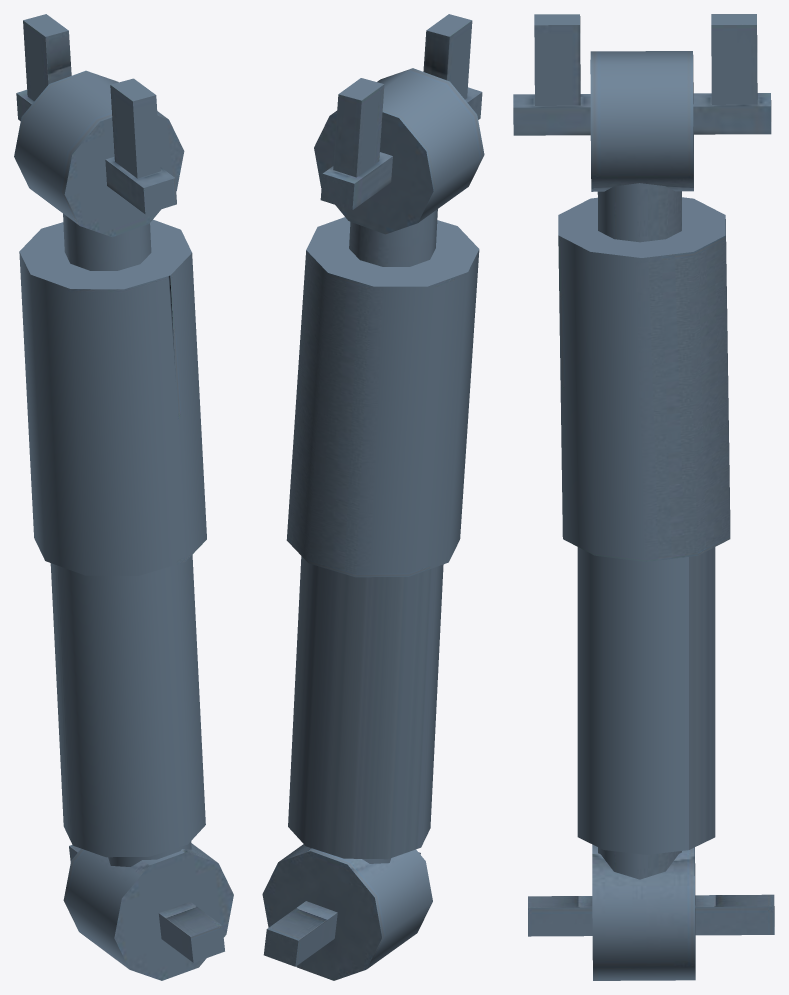
The model's file is jianyaqi006.FBX.
3 renders of one model, left to right at view 1: azimuth 30°, elevation 25°; view 2: azimuth 150°, elevation 25°; view 3: azimuth 270°, elevation 25°, orthographic.
Parts seen in each view (by area): view 1: Object095; view 2: Object095; view 3: Object095.
Part boxes in pixels (bbox=[...]): Object095: bbox=[14, 14, 233, 980]; Object095: bbox=[262, 14, 484, 980]; Object095: bbox=[513, 14, 774, 980].
Size of the model in its own units: 0.0813 by 0.3977 by 0.1018.
